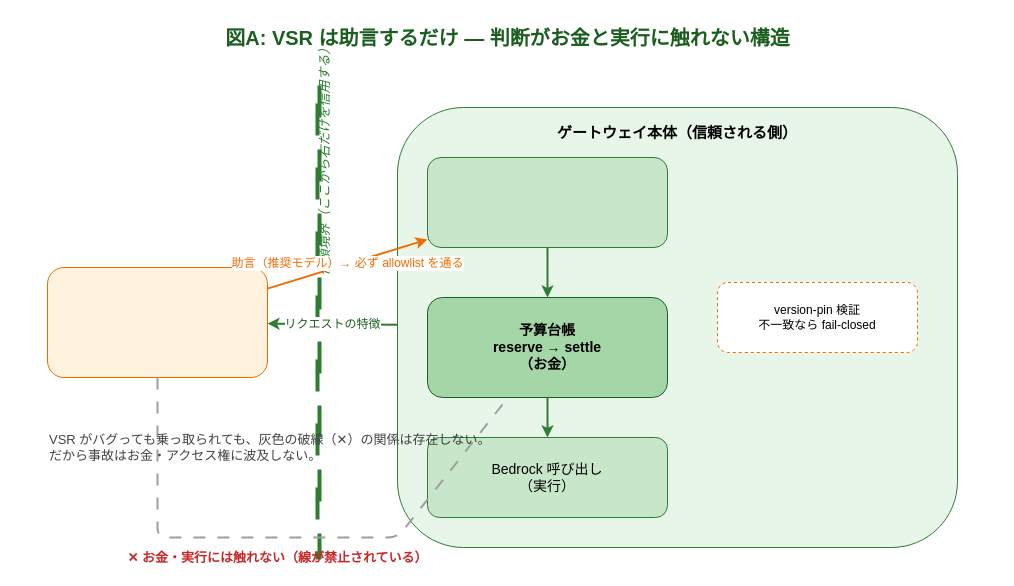
Image size: 1014x586. Some labels were removed from this diagram. The shapes that lost their labels are listed below. From the top down, each one's centre as x and y in pixels, then its label:
At (547,202): "allowlist フィルタ （テナントが使えるモデルだけ通す）".
At (157,322): "VSR（助言者） 判断だけを担当".
